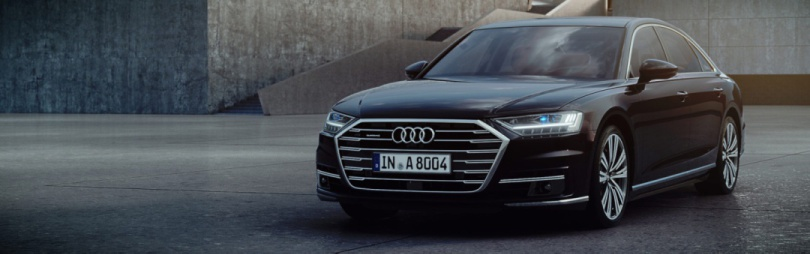audi: (389, 122, 440, 151)
